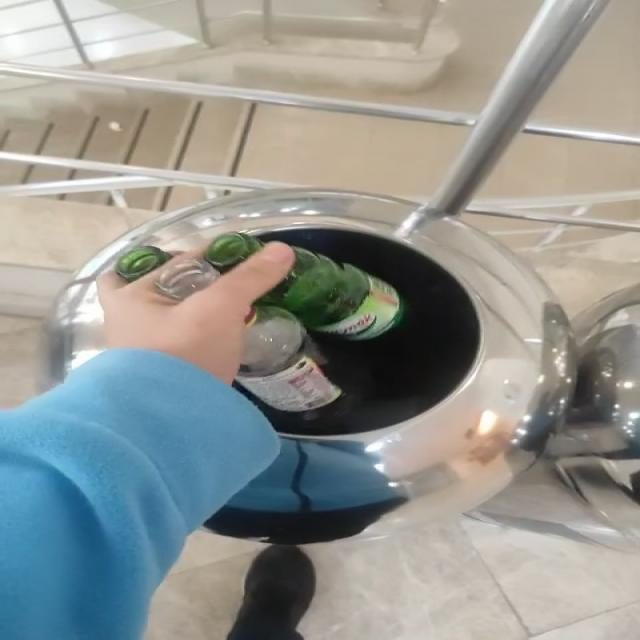glass: (236, 247, 403, 420), (155, 233, 264, 300), (116, 247, 168, 280)
